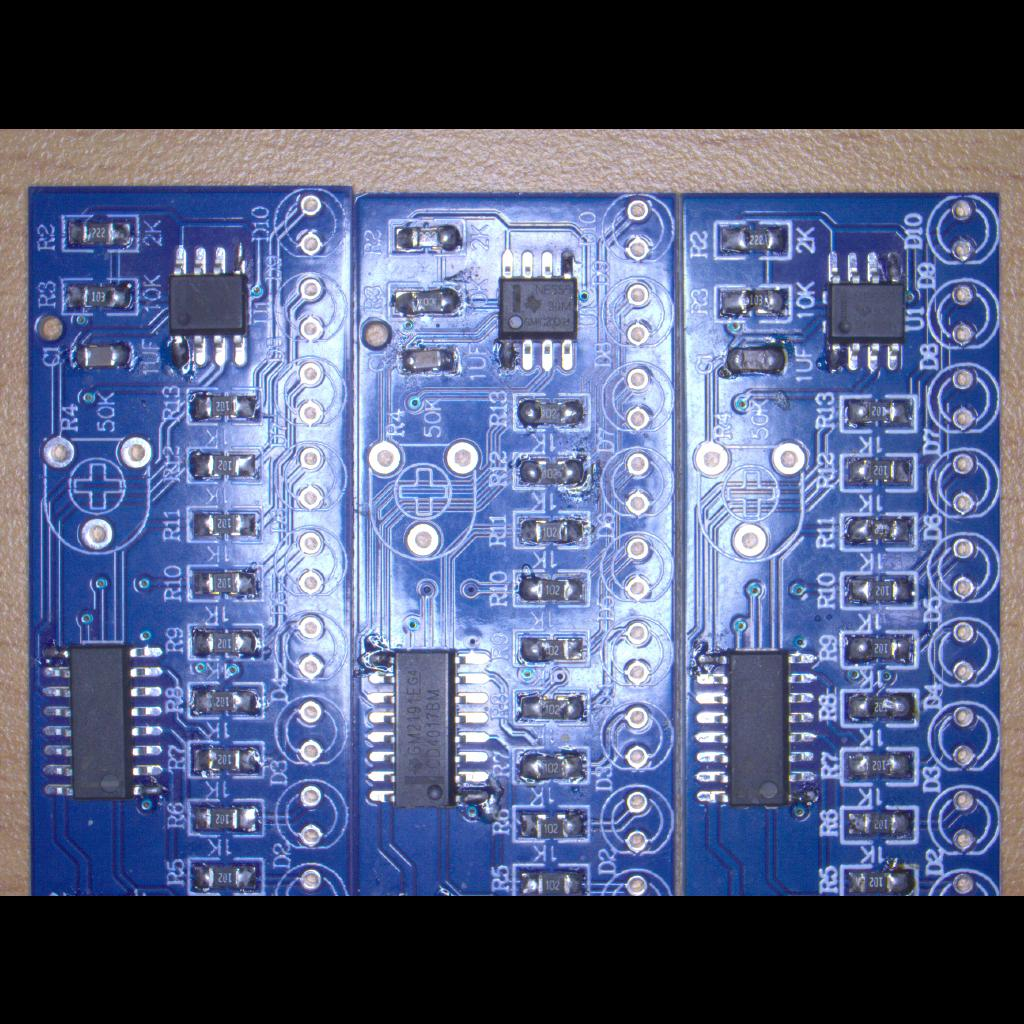OK: (358, 638, 502, 820), (688, 644, 826, 816), (32, 638, 168, 808), (489, 237, 585, 383), (823, 242, 909, 380), (708, 214, 800, 264), (181, 618, 271, 666), (180, 676, 270, 724), (836, 564, 922, 614), (57, 208, 145, 256), (180, 500, 268, 548), (385, 212, 469, 262), (510, 446, 594, 496), (710, 280, 800, 326), (835, 449, 921, 497), (836, 684, 922, 732), (508, 684, 594, 732), (834, 508, 922, 554), (382, 277, 470, 323), (182, 442, 266, 490), (182, 560, 266, 608), (184, 735, 268, 783), (835, 626, 921, 672), (836, 742, 922, 788), (508, 742, 594, 788), (184, 850, 270, 896), (510, 565, 592, 613), (837, 802, 921, 848), (510, 390, 594, 436), (58, 272, 142, 318), (182, 384, 268, 428), (834, 392, 922, 434), (507, 626, 595, 668), (508, 802, 596, 844), (510, 508, 596, 550), (184, 796, 268, 838), (834, 858, 924, 896), (506, 860, 592, 896), (720, 342, 790, 380), (68, 340, 136, 374), (398, 344, 462, 376)
